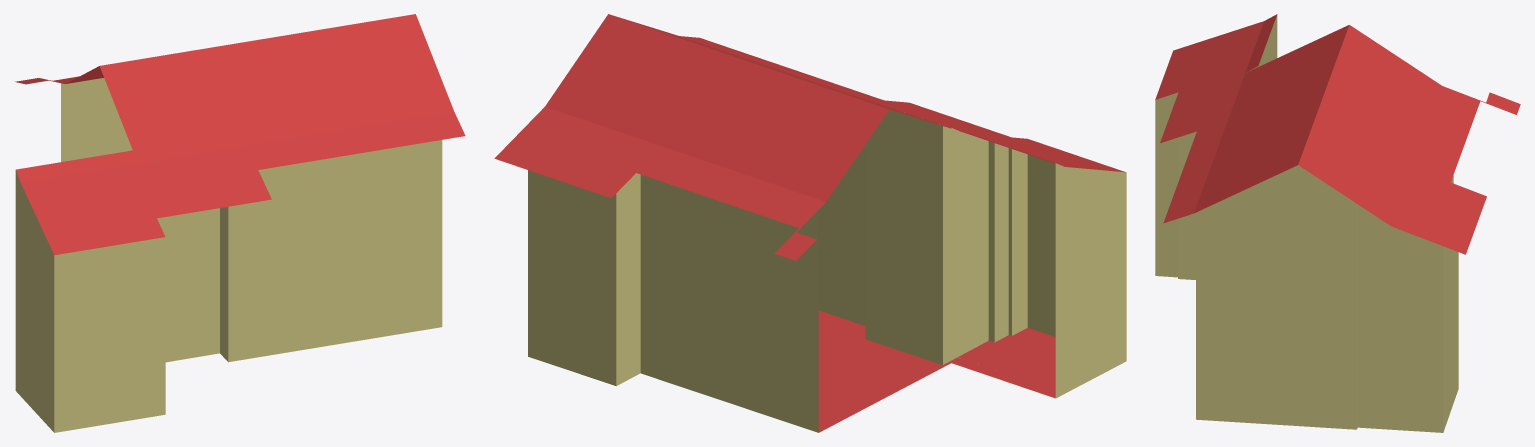
The picture shows the model from 3 angles, left to right: view 1: azimuth 30°, elevation 25°; view 2: azimuth 150°, elevation 25°; view 3: azimuth 270°, elevation 25°; orthographic projection. The views are drawn at different scales.
Parts seen in each view (by area): view 1: group_5, group_3, group_9, group_7, group_8, group_11, group_12; view 2: group_5, group_3, group_9, group_6, group_7, group_10, group_12, group_13; view 3: group_5, group_3, group_7, group_9, group_8, group_11, group_12.
Boxes of the visible parts, x1=… form: group_5: x1=61, y1=78, x2=442, y2=362; group_3: x1=15, y1=14, x2=453, y2=163; group_9: x1=20, y1=183, x2=165, y2=432; group_7: x1=21, y1=111, x2=465, y2=255; group_8: x1=142, y1=112, x2=464, y2=217; group_11: x1=16, y1=150, x2=137, y2=182; group_12: x1=15, y1=170, x2=20, y2=395; group_5: x1=528, y1=109, x2=957, y2=432; group_3: x1=494, y1=14, x2=950, y2=260; group_9: x1=957, y1=130, x2=1126, y2=393; group_6: x1=818, y1=310, x2=980, y2=432; group_7: x1=680, y1=36, x2=1125, y2=172; group_10: x1=958, y1=328, x2=1055, y2=390; group_12: x1=951, y1=128, x2=1064, y2=398; group_13: x1=972, y1=365, x2=1055, y2=398; group_5: x1=1196, y1=165, x2=1458, y2=432; group_3: x1=1194, y1=25, x2=1520, y2=254; group_7: x1=1155, y1=21, x2=1263, y2=223; group_9: x1=1155, y1=50, x2=1264, y2=279; group_8: x1=1164, y1=77, x2=1243, y2=222; group_11: x1=1245, y1=14, x2=1277, y2=72; group_12: x1=1249, y1=15, x2=1277, y2=71.
Size of the model in its own units: 19.38 by 13.85 by 11.15.
